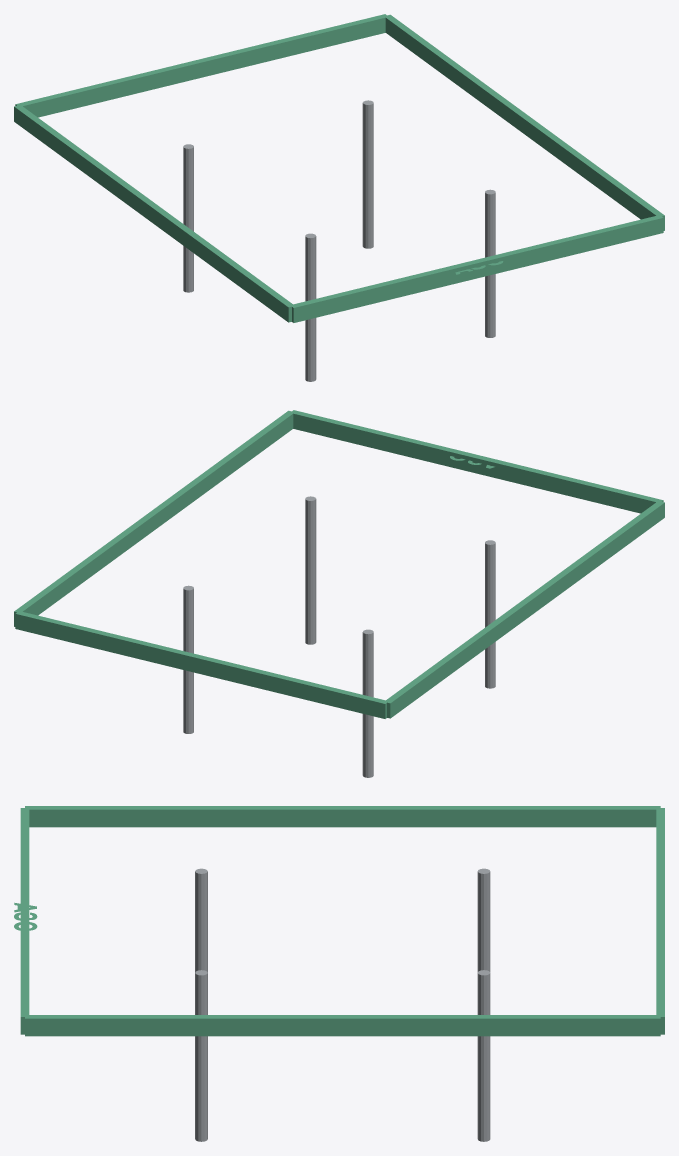
File: fuel_canopy.glb
The picture shows the model from 3 angles, top to bottom: view 1: azimuth 30°, elevation 25°; view 2: azimuth 150°, elevation 25°; view 3: azimuth 270°, elevation 25°; orthographic projection. The views are drawn at different scales.
Visible parts, largest first — view 1: fuel_canopy; view 2: fuel_canopy; view 3: fuel_canopy.
Boxes of the visible parts, x1,y1,x2,y2 form: fuel_canopy: (14, 14, 664, 381); fuel_canopy: (14, 410, 664, 777); fuel_canopy: (14, 806, 664, 1141).
Bounding box in the file's own units: 14.25 × 5.5 × 18.43.
